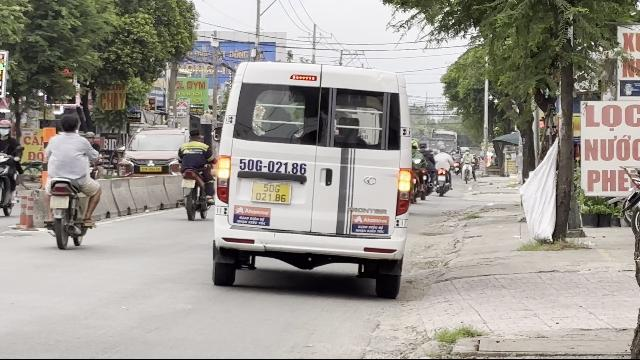licenseplate: (50, 195, 68, 209)
motorcyclist: (40, 112, 102, 248)
nohelmet: (57, 113, 79, 133)
